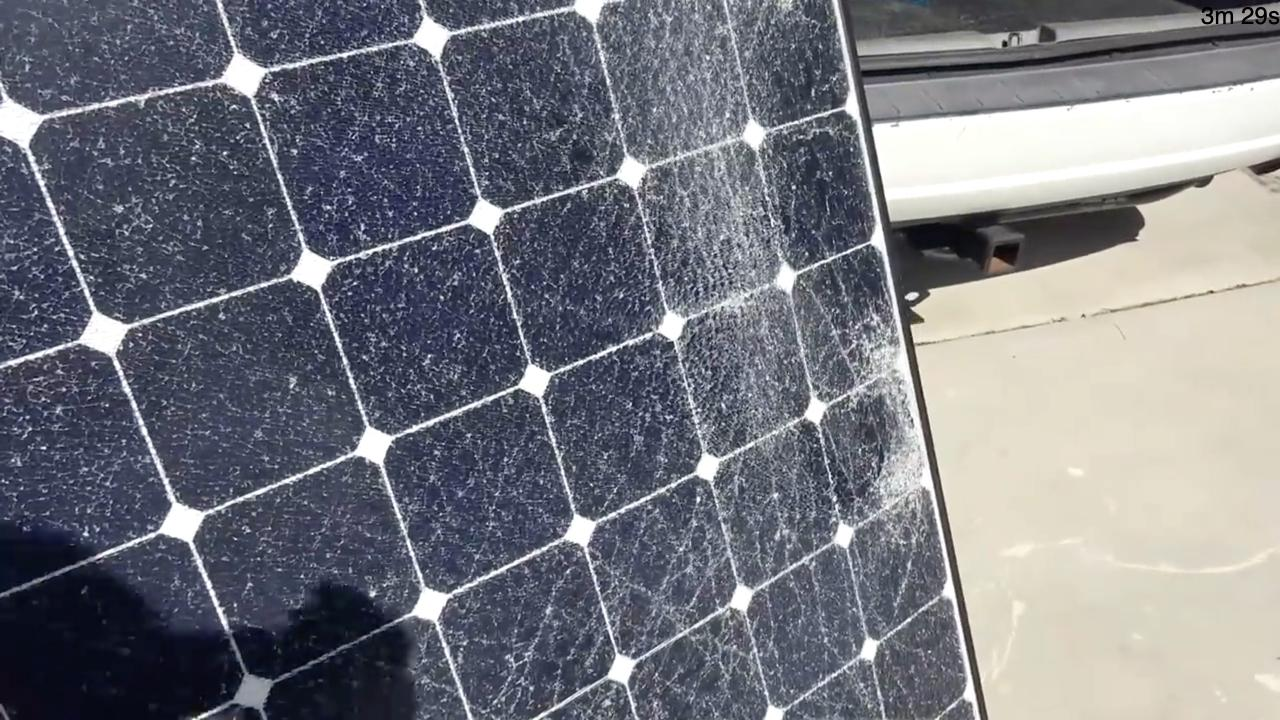Crack: (309, 325, 609, 720), (2, 319, 294, 720), (309, 0, 610, 315), (4, 3, 299, 315), (611, 4, 889, 296), (625, 512, 972, 717), (615, 304, 948, 514)
